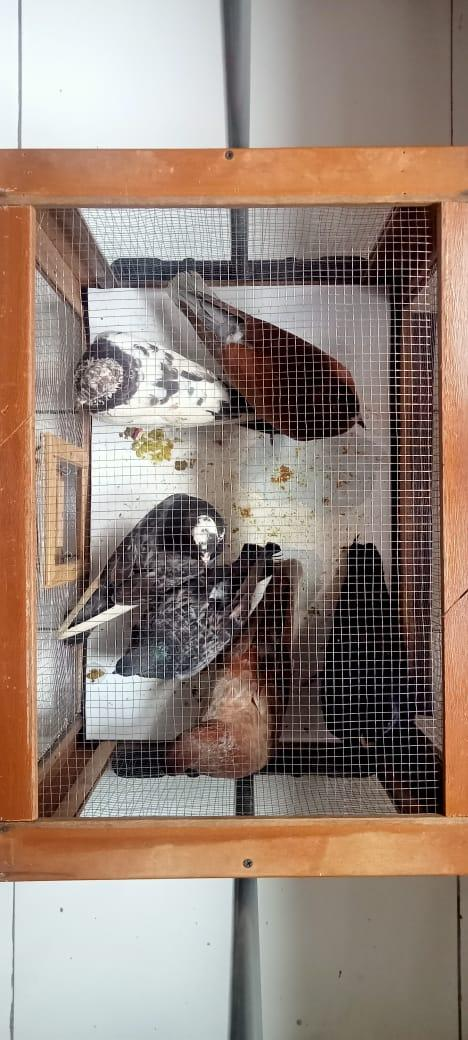Merpati: (168, 271, 366, 442), (160, 558, 303, 778), (58, 494, 229, 644), (112, 544, 279, 682), (70, 333, 277, 435), (318, 544, 410, 758)
